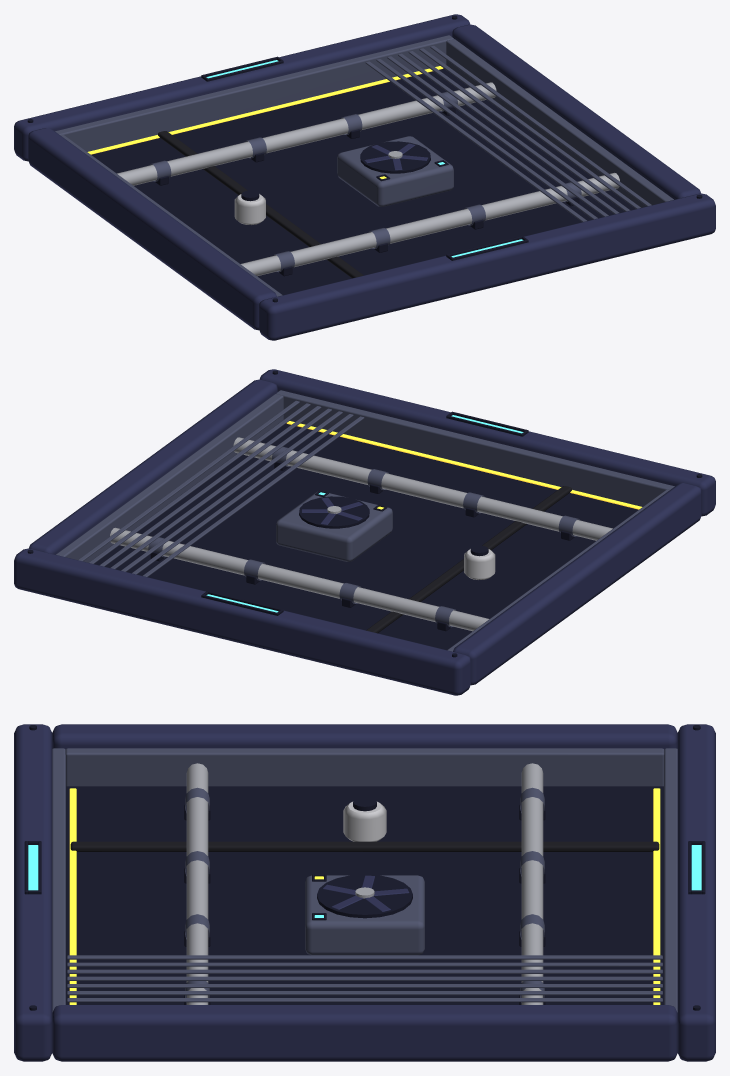
Rendered from roof.greeble.w3.d3.glb.
3 views of the same model, one above another, from view 1: azimuth 30°, elevation 25°; view 2: azimuth 150°, elevation 25°; view 3: azimuth 270°, elevation 25° (orthographic). The views are drawn at different scales.
Parts seen in each view (by area): view 1: roof.greeble.w3.d3; view 2: roof.greeble.w3.d3; view 3: roof.greeble.w3.d3.
Part boxes in pixels (x1,y1,x2,y2): roof.greeble.w3.d3: (14,14,715,340); roof.greeble.w3.d3: (14,369,715,695); roof.greeble.w3.d3: (14,724,715,1061).
Size of the model in its own units: 2.92 by 0.234 by 2.92.
